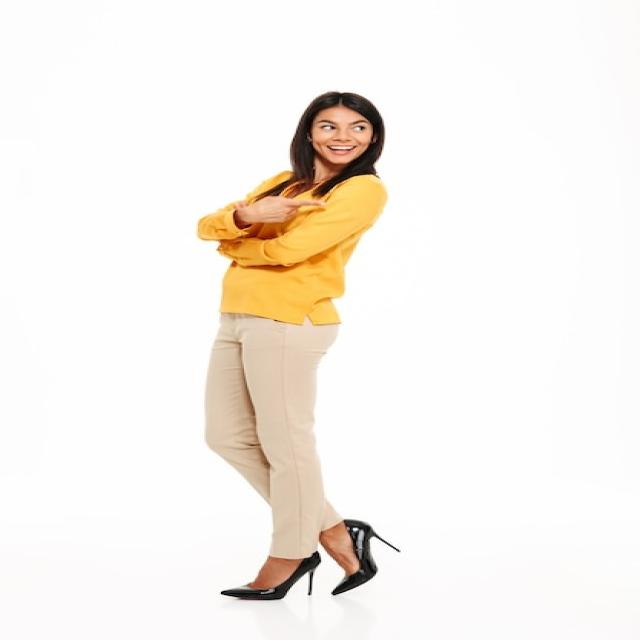Person: (196, 90, 401, 600)
